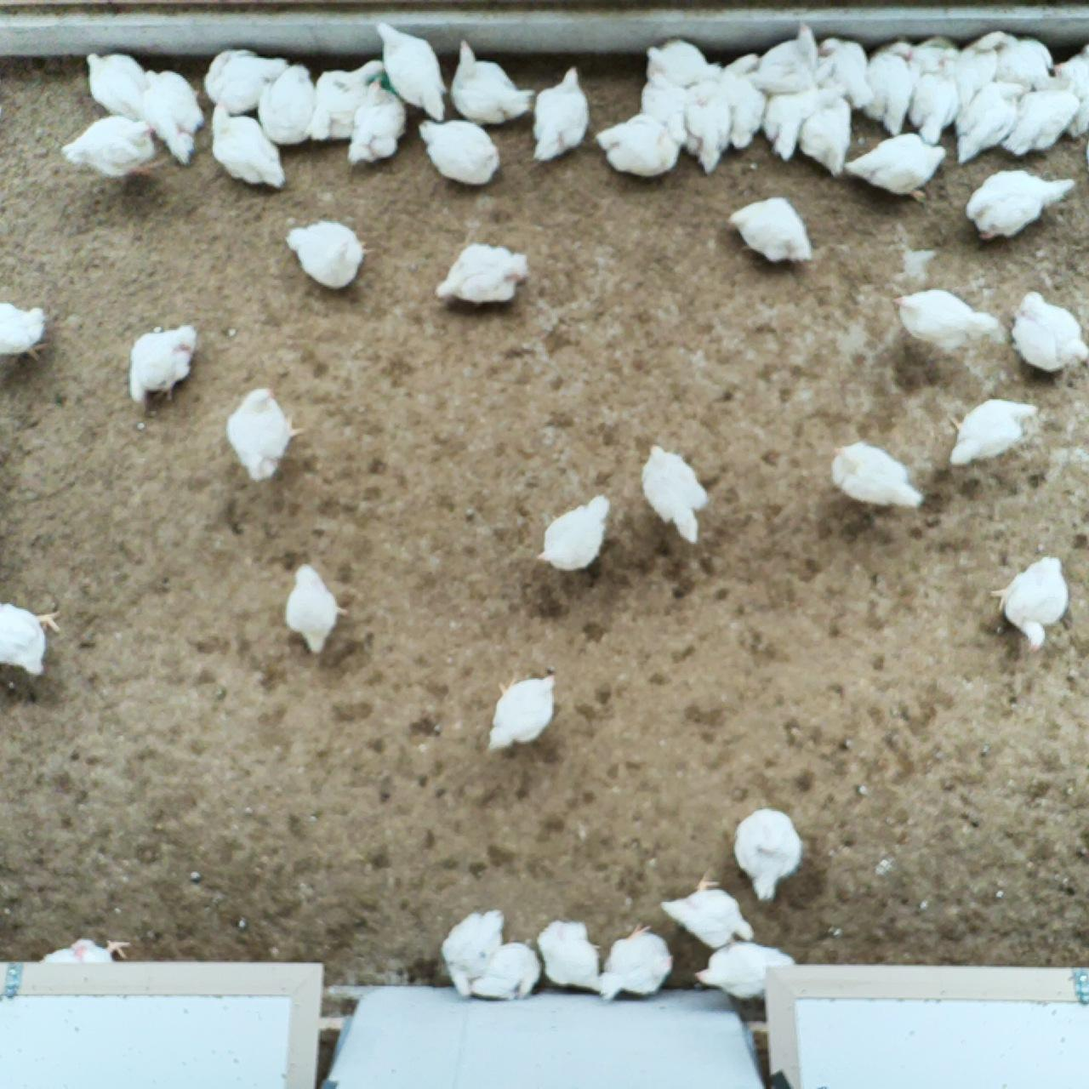chicken: (967, 167, 1080, 245), (991, 552, 1072, 651), (447, 38, 536, 127), (372, 19, 450, 120), (889, 283, 1001, 352), (226, 384, 301, 487), (843, 133, 950, 203), (657, 874, 756, 949), (830, 438, 926, 515), (310, 57, 393, 145), (206, 98, 286, 189), (676, 60, 738, 175), (733, 804, 805, 901), (529, 63, 596, 167), (432, 238, 532, 307), (484, 666, 563, 753), (1009, 288, 1089, 373), (442, 902, 510, 1001), (136, 66, 204, 164), (725, 196, 816, 269), (642, 445, 709, 544), (59, 109, 156, 177), (951, 395, 1039, 469), (413, 115, 502, 188), (694, 939, 797, 1002), (753, 18, 828, 104), (126, 321, 200, 407), (202, 48, 297, 114), (951, 82, 1028, 163), (598, 921, 677, 999), (284, 563, 351, 654), (284, 219, 365, 294), (906, 53, 968, 149), (764, 83, 834, 167), (594, 115, 684, 179), (977, 26, 1059, 96), (539, 494, 611, 573), (716, 49, 769, 155), (348, 78, 407, 172), (1000, 91, 1084, 156), (255, 64, 318, 149), (864, 40, 917, 140), (0, 599, 66, 679), (537, 914, 603, 994), (82, 49, 152, 119), (810, 37, 875, 110), (798, 94, 855, 176), (465, 941, 543, 999), (952, 26, 1006, 108), (637, 74, 695, 149), (1047, 40, 1089, 137), (0, 294, 51, 366), (639, 37, 715, 84), (38, 932, 133, 968), (913, 36, 963, 75)
